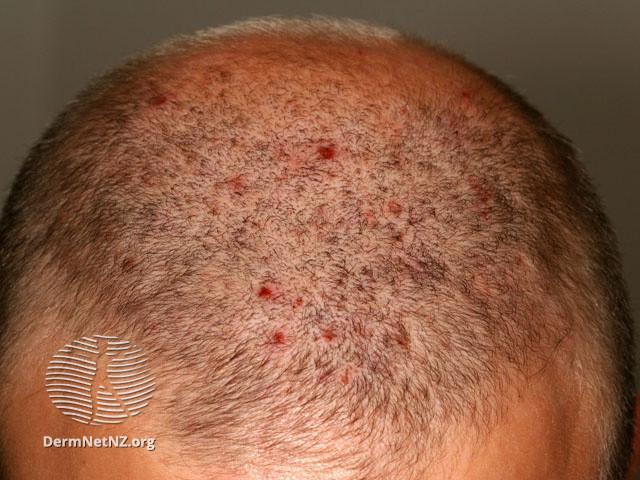Folliculitis: (98, 75, 517, 449)
